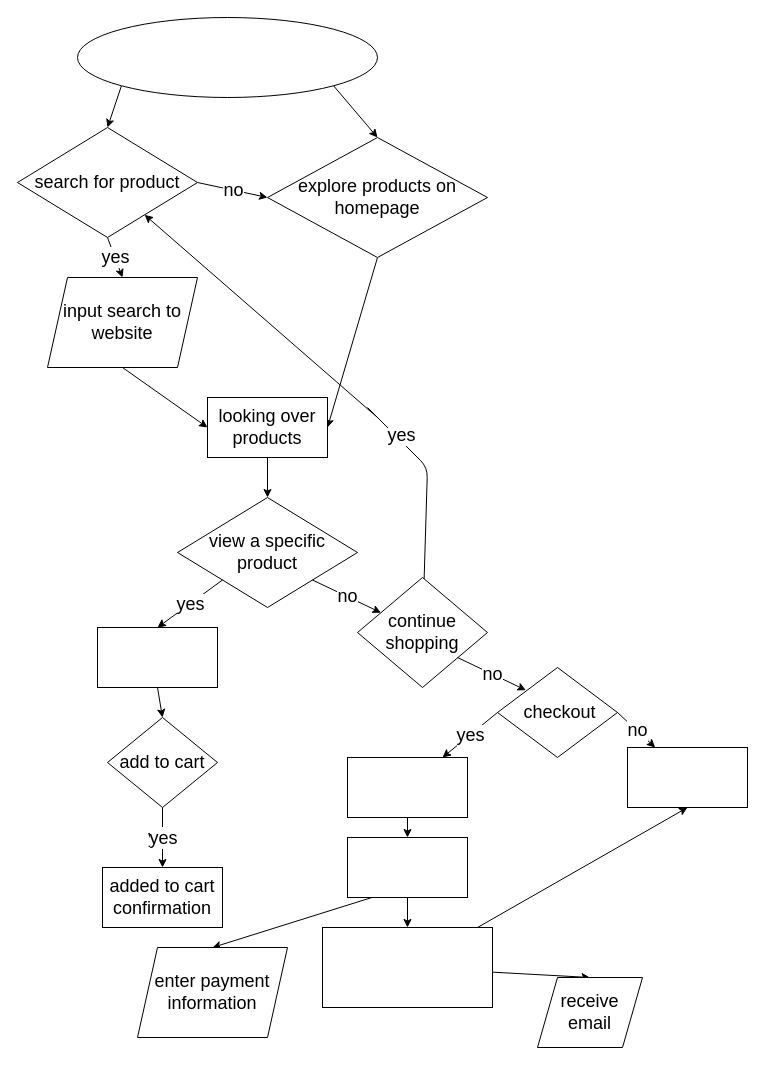
The diagram is 765 pixels wide and 1065 high, and some of its shapes have lost their labels. Each missing label, with the box of its shape:
Enter Website: (76, 16, 378, 98)
leave website: (626, 746, 748, 808)
order confirmation screen: (322, 926, 492, 1008)
see product webpage: (96, 626, 218, 688)
view cart screen: (346, 756, 468, 818)
view payment screen: (346, 836, 468, 898)
